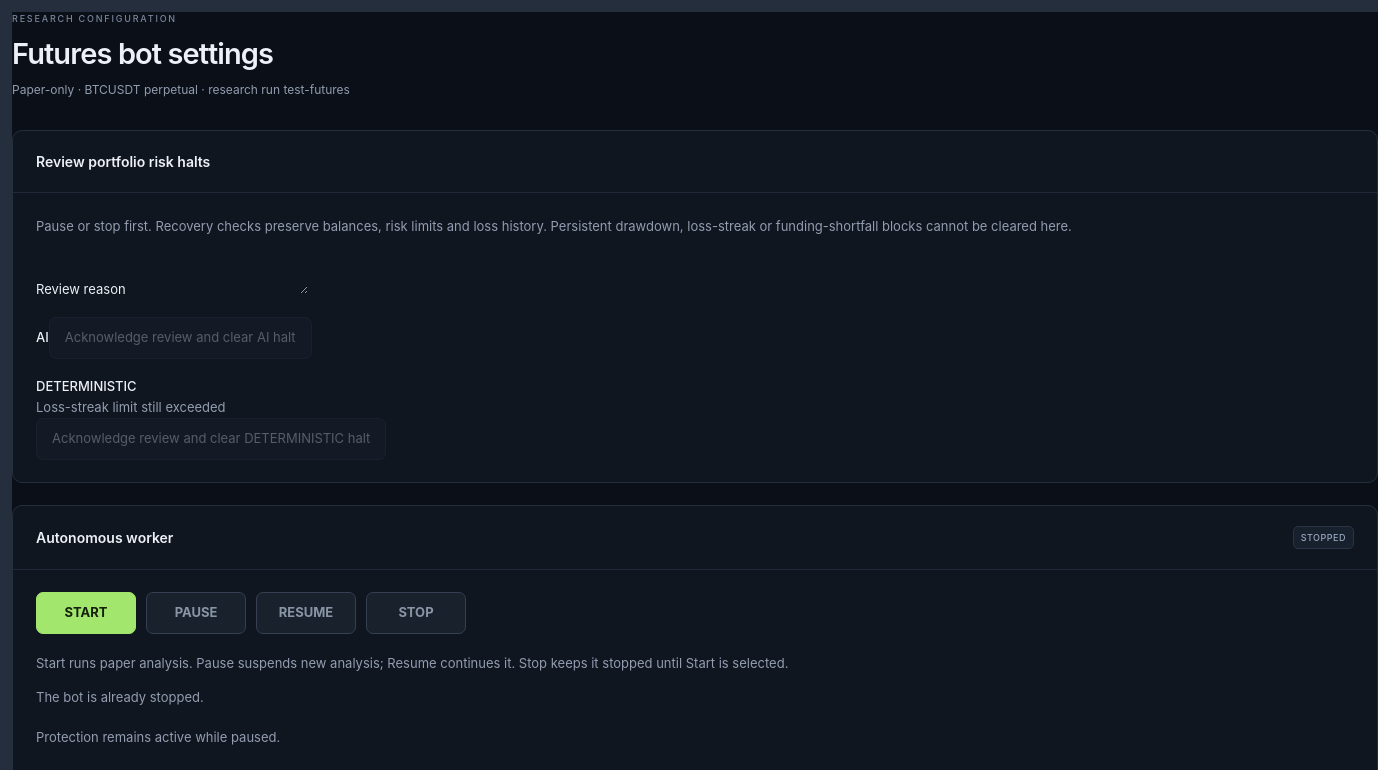
Test: requires a reason and server eligibility before clearing a halt
Expected: the button "Acknowledge review and clear AI halt" is disabled, [49,317,312,359]
Step 1. Type "Reviewed recovered market data" into the text box labelled "Review reason" → (217, 274), box [126,255,308,294]
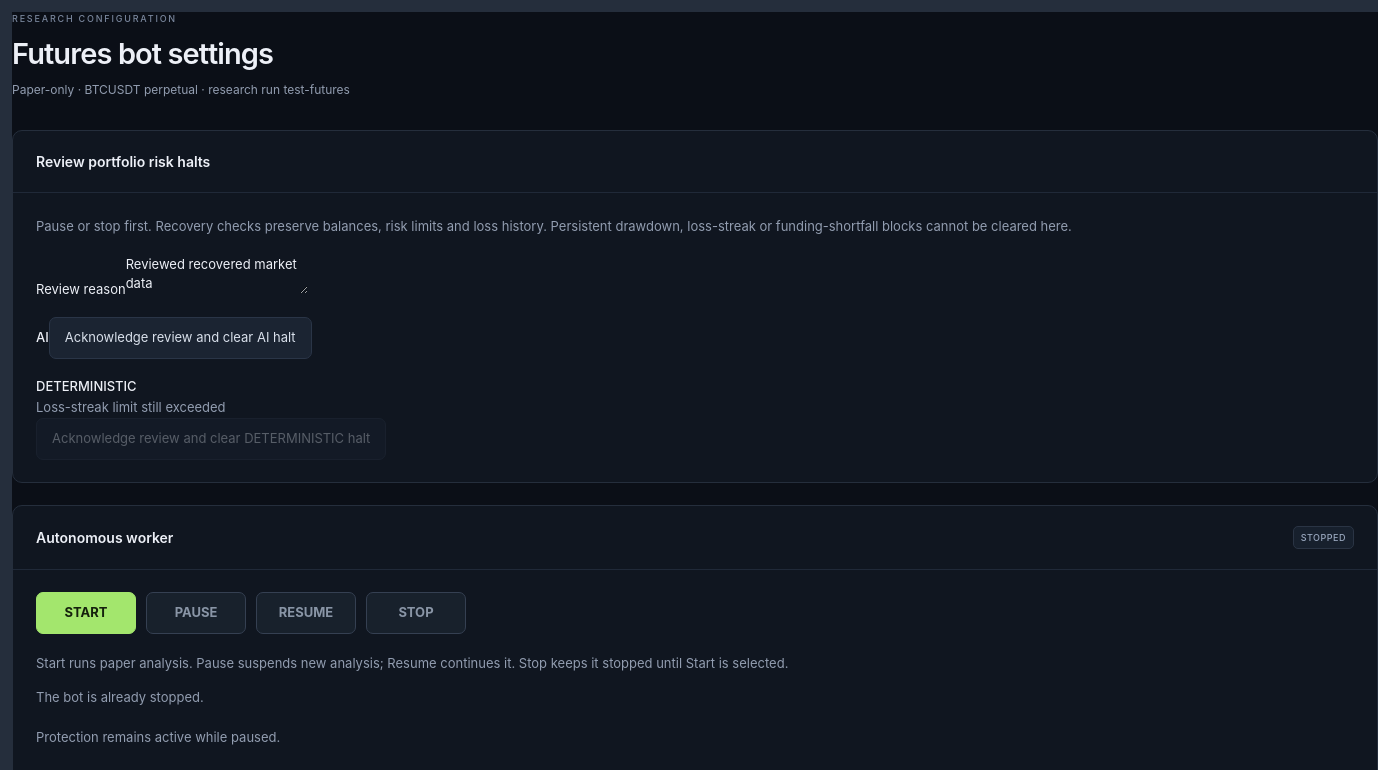
Expected: the button "Acknowledge review and clear DETERMINISTIC halt" is disabled, [36,418,386,460]
Expected: the button "Acknowledge review and clear AI halt" is enabled, [49,317,312,359]
